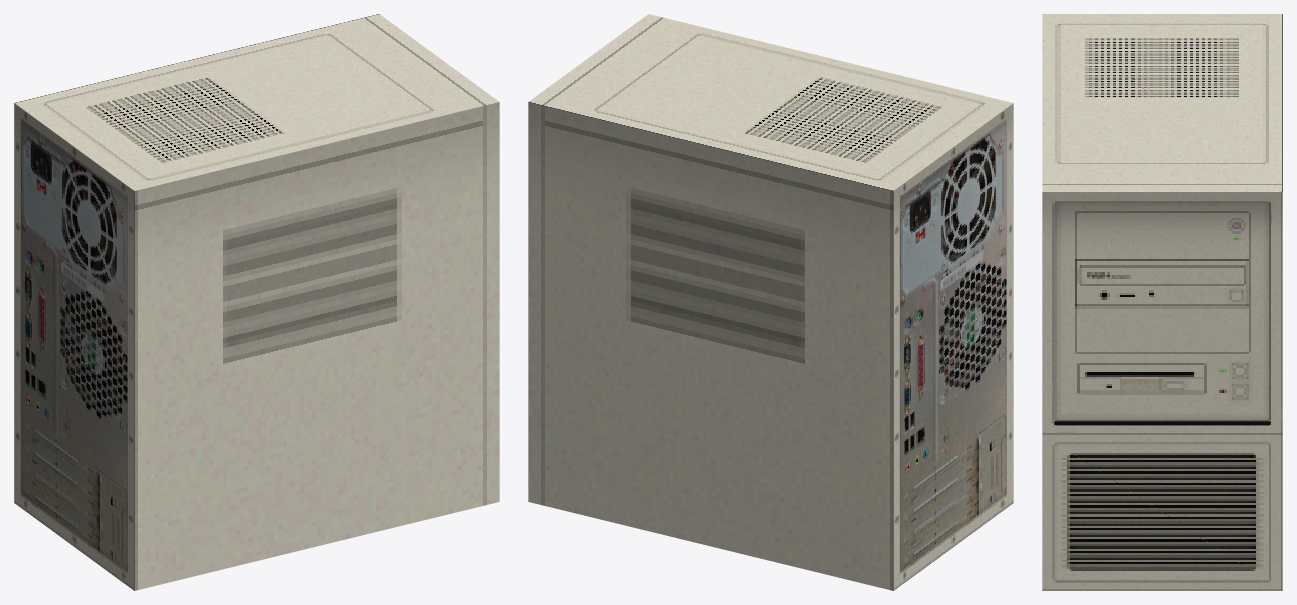
Rendered from desktop_pc.glb.
3 renders of one model, left to right at view 1: azimuth 30°, elevation 25°; view 2: azimuth 150°, elevation 25°; view 3: azimuth 270°, elevation 25°, orthographic.
Parts seen in each view (by area): view 1: Desktop PC.001; view 2: Desktop PC.001; view 3: Desktop PC.001.
Part boxes in pixels (x1,y1,x2,y2): Desktop PC.001: (14, 14, 499, 590); Desktop PC.001: (528, 14, 1013, 590); Desktop PC.001: (1042, 14, 1282, 590).
Size of the model in its own units: 0.2945 by 0.3083 by 0.168.
1 material, 1 textured.
